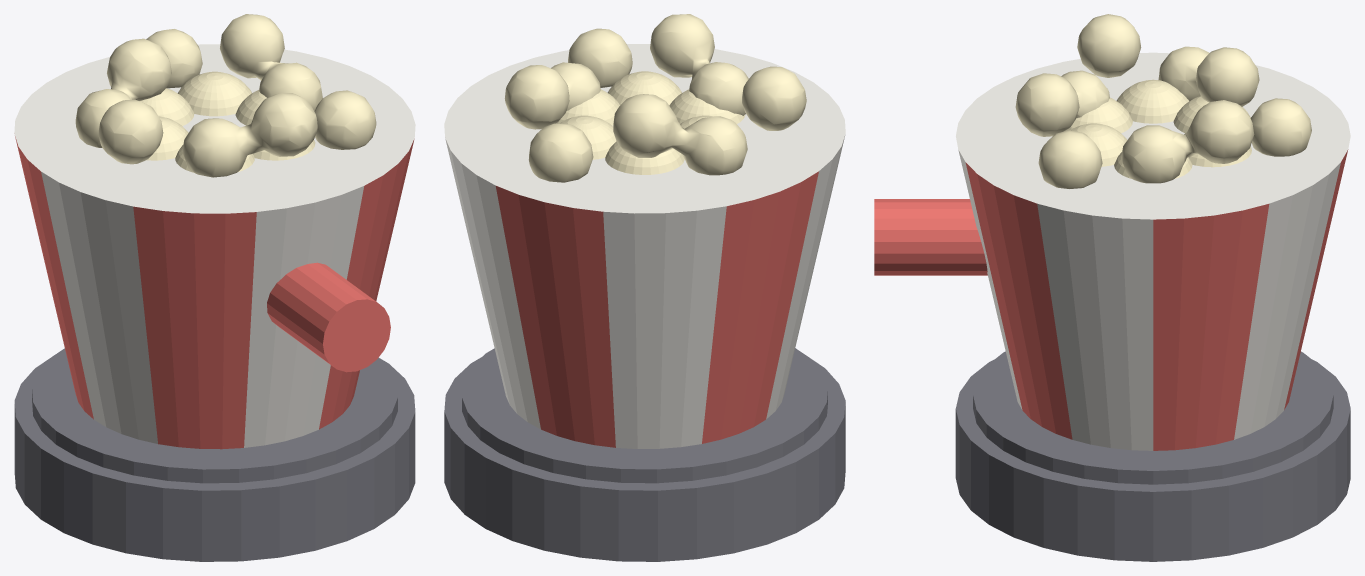
The model's file is Popcorn.glb.
3 views of the same model, side by side, from view 1: azimuth 30°, elevation 25°; view 2: azimuth 150°, elevation 25°; view 3: azimuth 270°, elevation 25° (orthographic).
Visible parts, largest first — view 1: Popcorn_bucket, Popcorn_pedestal, Popcorn_puffs, Popcorn_rim, Popcorn_spout, Popcorn_k1, Popcorn_k2, Popcorn_k3, Popcorn_k0; view 2: Popcorn_bucket, Popcorn_pedestal, Popcorn_puffs, Popcorn_rim, Popcorn_k5, Popcorn_k2, Popcorn_k1, Popcorn_k4, Popcorn_k0; view 3: Popcorn_bucket, Popcorn_pedestal, Popcorn_puffs, Popcorn_rim, Popcorn_spout, Popcorn_k3, Popcorn_k5, Popcorn_k4, Popcorn_k2.
Boxes of the visible parts, <box> form: Popcorn_bucket: <box>14,44,415,449</box>; Popcorn_pedestal: <box>14,358,415,561</box>; Popcorn_puffs: <box>75,14,376,177</box>; Popcorn_rim: <box>32,348,397,483</box>; Popcorn_spout: <box>267,262,390,372</box>; Popcorn_k1: <box>178,71,251,116</box>; Popcorn_k2: <box>139,88,194,125</box>; Popcorn_k3: <box>146,116,188,160</box>; Popcorn_k0: <box>235,90,266,125</box>; Popcorn_bucket: <box>444,44,845,448</box>; Popcorn_pedestal: <box>444,357,845,561</box>; Popcorn_puffs: <box>504,14,806,182</box>; Popcorn_rim: <box>462,348,827,483</box>; Popcorn_k5: <box>607,71,681,105</box>; Popcorn_k2: <box>605,141,684,174</box>; Popcorn_k1: <box>560,115,616,159</box>; Popcorn_k4: <box>669,89,745,123</box>; Popcorn_k0: <box>556,89,620,125</box>; Popcorn_bucket: <box>956,52,1350,450</box>; Popcorn_pedestal: <box>955,359,1350,561</box>; Popcorn_puffs: <box>1015,14,1311,188</box>; Popcorn_rim: <box>973,351,1333,484</box>; Popcorn_spout: <box>874,199,987,275</box>; Popcorn_k3: <box>1116,79,1189,123</box>; Popcorn_k5: <box>1071,123,1127,166</box>; Popcorn_k4: <box>1064,97,1132,132</box>; Popcorn_k2: <box>1173,96,1250,132</box>.
Size of the model in its own units: 0.92 by 1.05 by 1.11.
